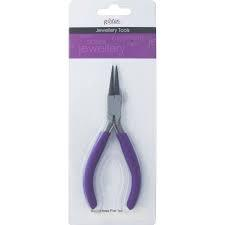pliers: (81, 63, 142, 210)
